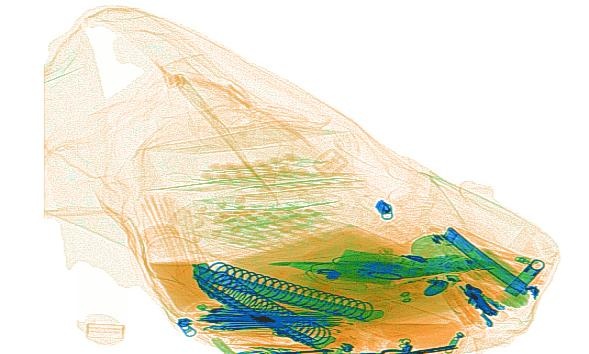knife: (441, 226, 530, 297)
